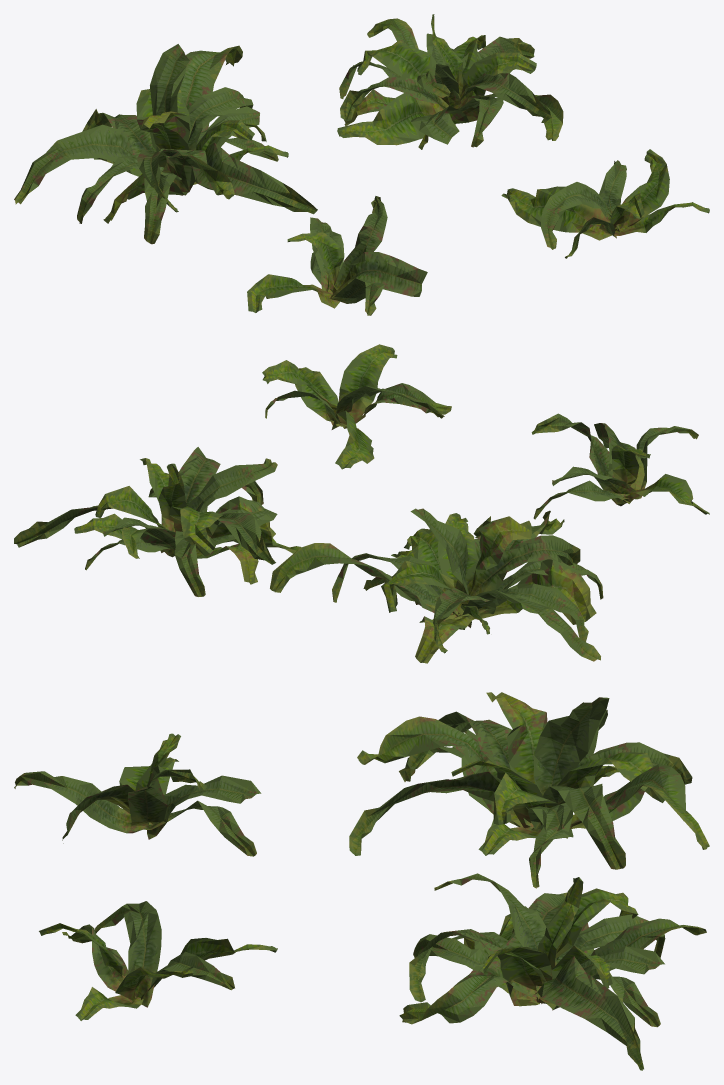
File: fern_02.glb
3 renders of one model, top to bottom at view 1: azimuth 30°, elevation 25°; view 2: azimuth 150°, elevation 25°; view 3: azimuth 270°, elevation 25°, orthographic. The views are drawn at different scales.
Parts seen in each view (by area): view 1: fern_02_b; view 2: fern_02_b; view 3: fern_02_b.
Part boxes in pixels (box(x1,y1,x2,y2)): fern_02_b: box(14, 14, 709, 315); fern_02_b: box(14, 344, 709, 663); fern_02_b: box(14, 692, 709, 1070).
Bounding box in the file's own units: 1.97 × 0.4277 × 1.72.
Materials: 1 (1 with a texture image).
